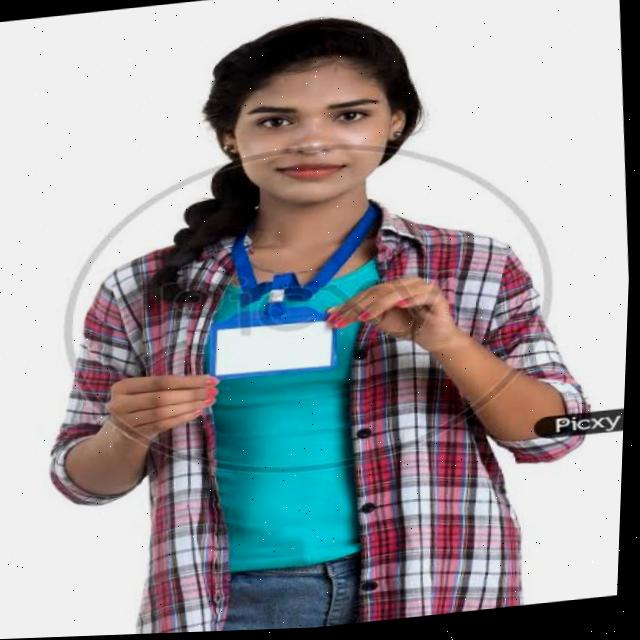id_card: (199, 209, 385, 390)
